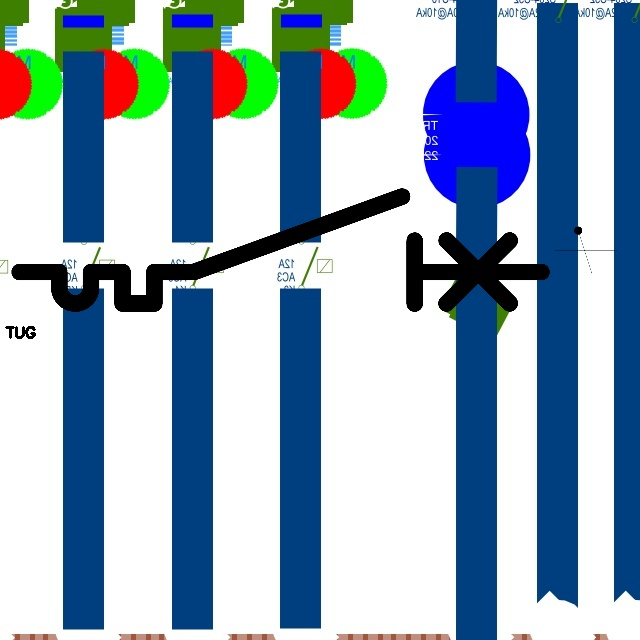interruptor_termomagnetico: (6, 183, 554, 317)
